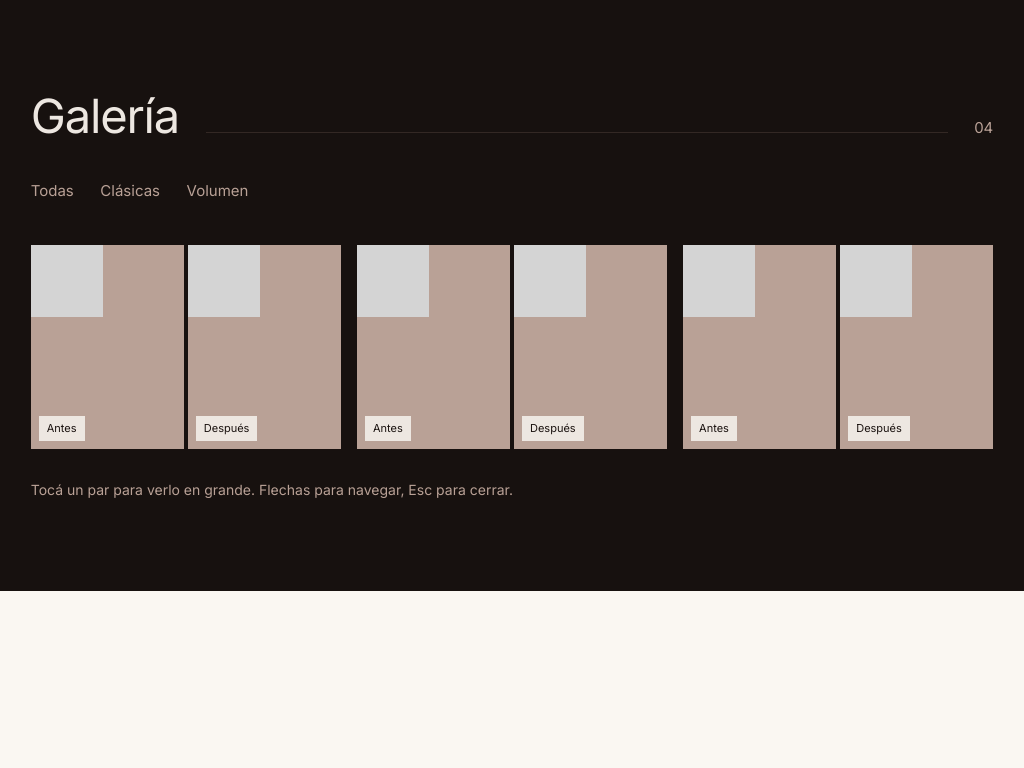
Test case: LandingGallery — US-LAND-03 › UI-004: la galería ampliada es un diálogo modal que enfoca "Cerrar", y Escape devuelve el foco al par
The width and height of the screenshot is (1024, 768).
Click the 3rd button "Antes Después" at (838, 347), box 683,245 -> 993,449
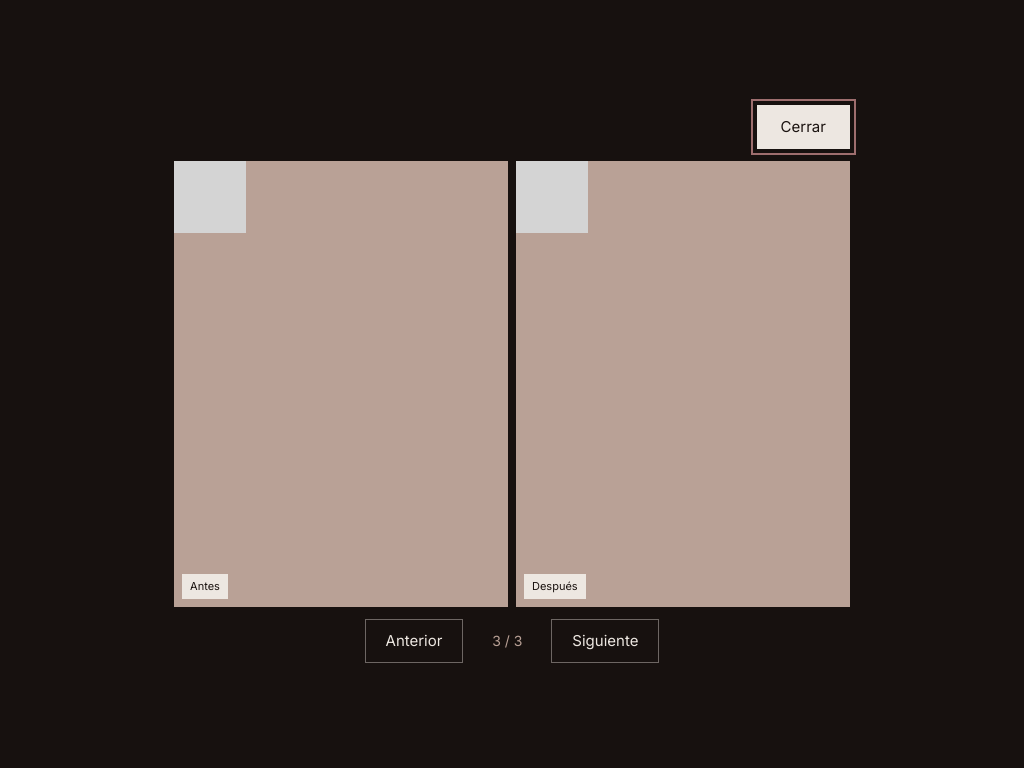
Press Escape
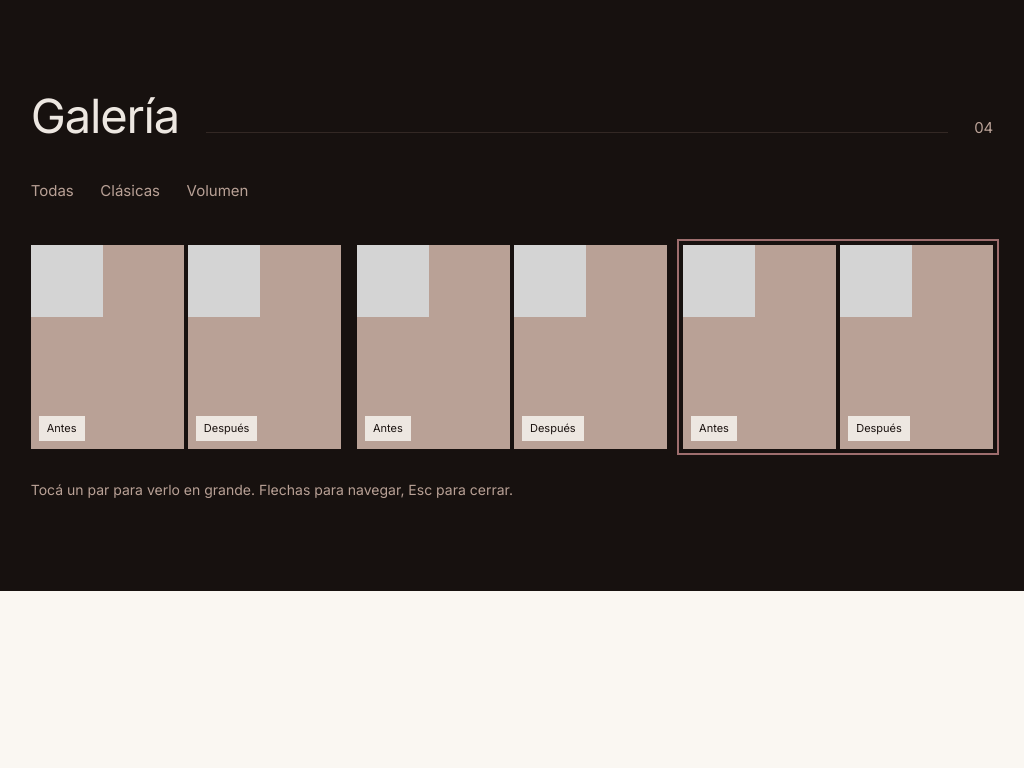
Check: the dialog is gone
